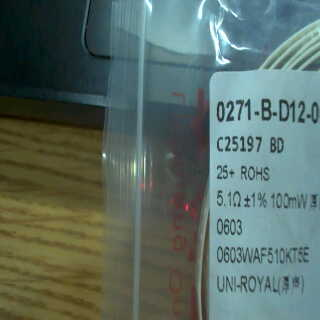5.1R: (213, 187, 245, 210)
